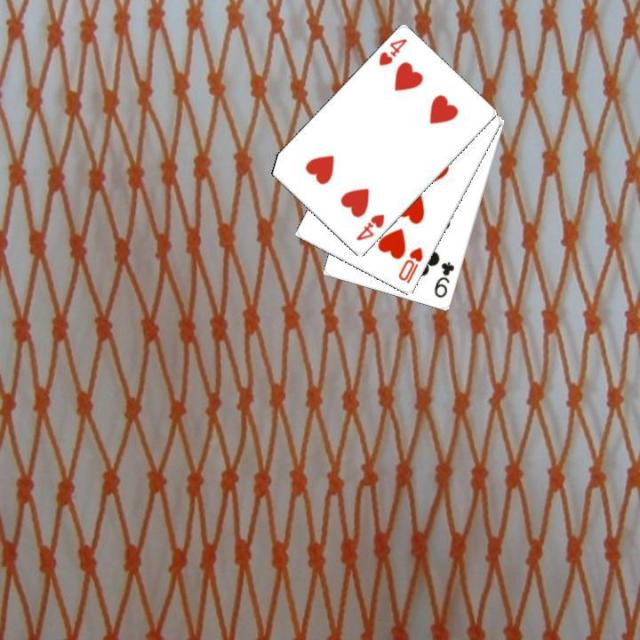10H: (395, 243, 425, 286)
4H: (375, 34, 409, 68), (352, 210, 387, 243)
9C: (430, 258, 456, 300)
